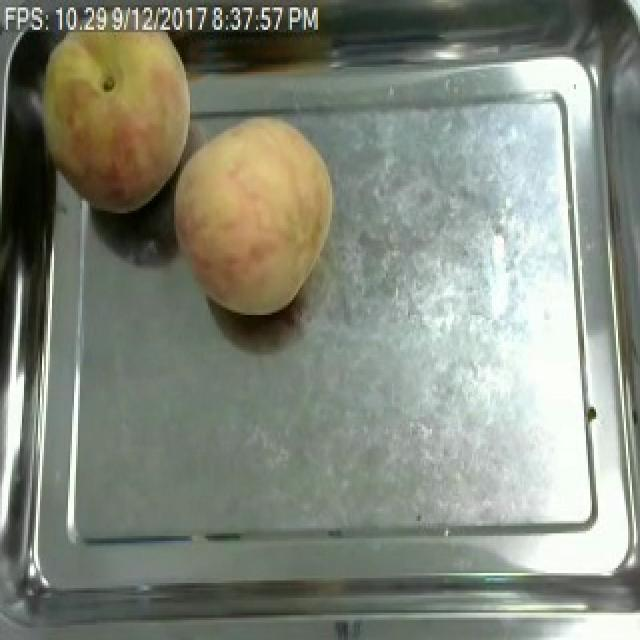Fruit: (160, 106, 346, 322), (24, 8, 202, 224)
